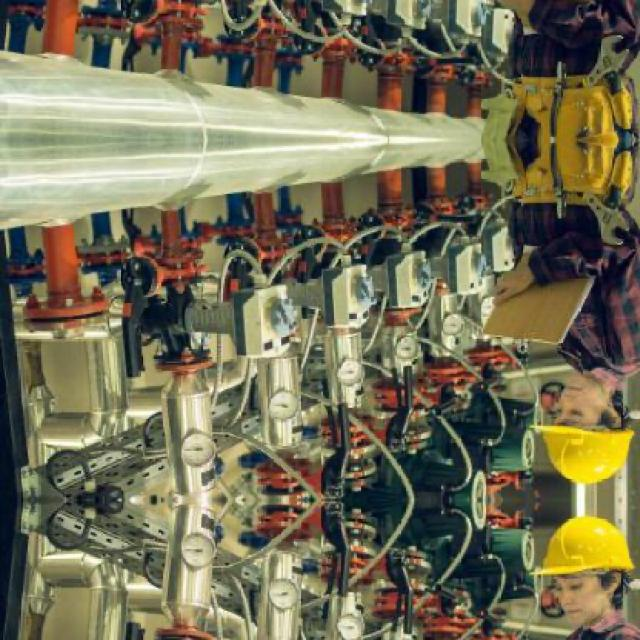con casco: (504, 278, 640, 495)
